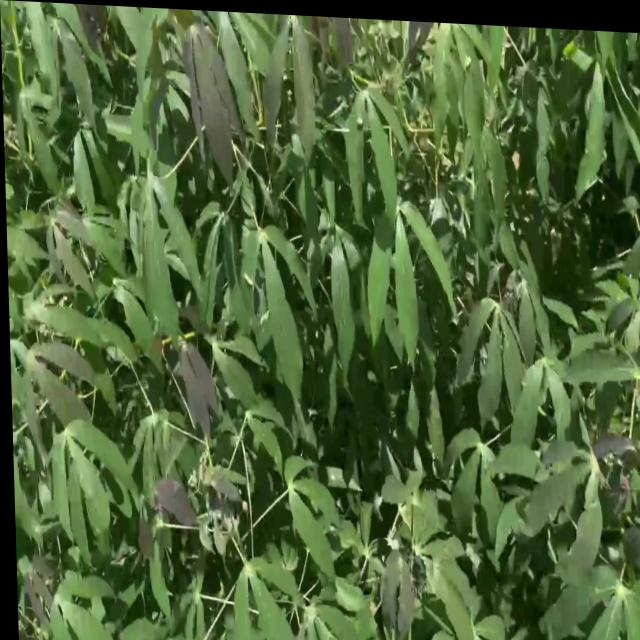Mosca: (456, 49, 482, 80), (345, 106, 374, 132), (248, 312, 279, 332), (513, 371, 535, 399), (236, 266, 254, 293)
